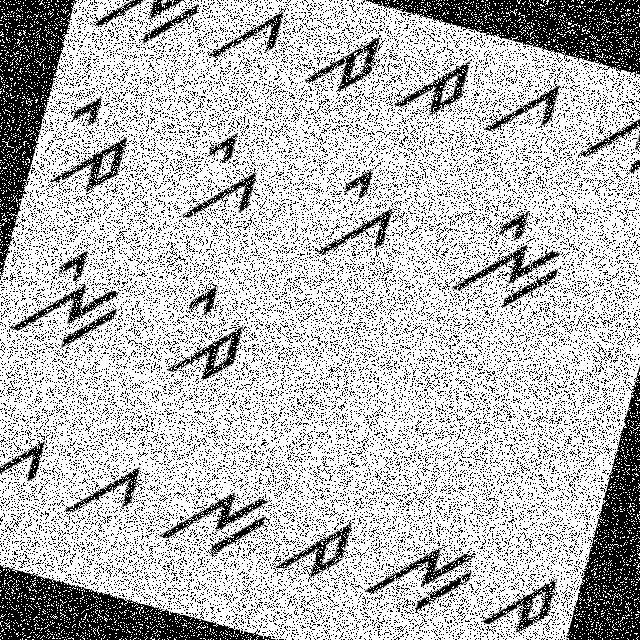ga: (52, 444, 145, 538), (477, 61, 566, 150), (202, 0, 291, 79), (0, 412, 52, 511)
gi: (165, 100, 276, 242), (310, 156, 408, 278)
nga: (356, 512, 482, 628), (154, 470, 272, 568), (83, 0, 209, 65), (571, 83, 639, 191)
ngi: (0, 222, 136, 368), (446, 195, 579, 328)
ta: (266, 492, 362, 590), (293, 8, 387, 103), (384, 40, 478, 126), (475, 551, 566, 639)
ti: (152, 272, 264, 395), (39, 80, 141, 206)
